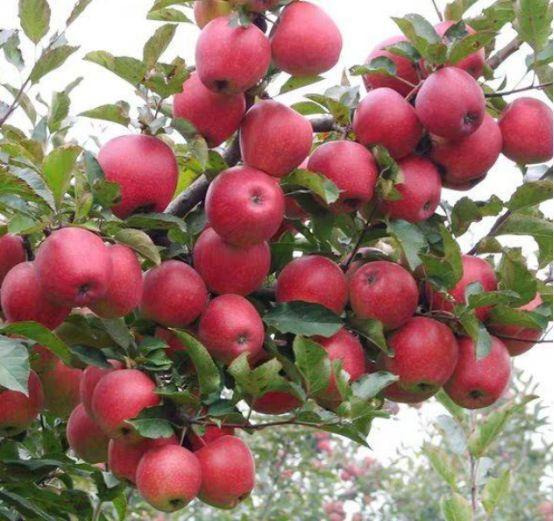apple: (94, 134, 178, 217), (205, 164, 286, 246), (194, 13, 272, 95), (234, 97, 312, 178), (34, 227, 113, 304), (269, 1, 343, 75), (193, 226, 272, 295), (305, 138, 379, 210), (174, 71, 244, 147), (423, 114, 503, 180), (195, 292, 267, 364), (415, 68, 486, 141), (386, 319, 456, 392), (444, 335, 513, 409), (351, 88, 420, 160), (191, 432, 255, 509), (346, 260, 417, 329), (2, 259, 71, 329), (274, 253, 346, 320), (134, 444, 203, 513), (93, 369, 161, 438), (375, 153, 443, 222), (141, 259, 207, 326), (496, 95, 553, 168), (88, 243, 143, 317), (2, 369, 44, 436)
